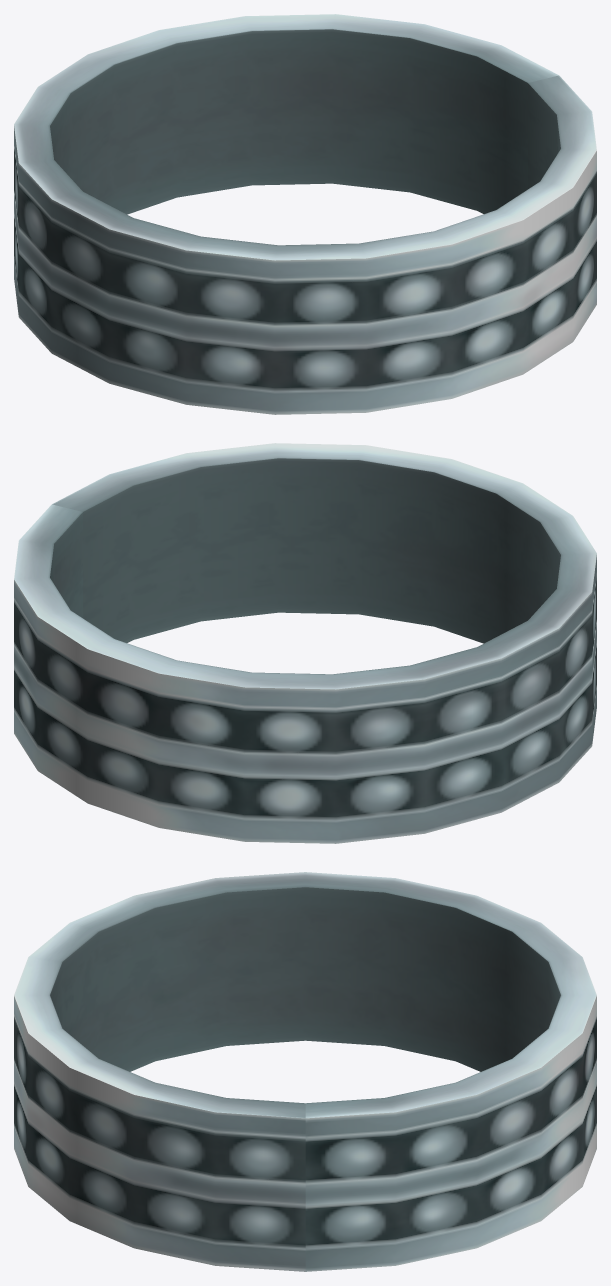
File: ring_silver_14.fbx
3 renders of one model, top to bottom at view 1: azimuth 30°, elevation 25°; view 2: azimuth 150°, elevation 25°; view 3: azimuth 270°, elevation 25°, orthographic.
Visible parts, largest first — view 1: ring_silver_14; view 2: ring_silver_14; view 3: ring_silver_14.
Boxes of the visible parts, bbox=[...] form: ring_silver_14: bbox=[14, 14, 596, 414]; ring_silver_14: bbox=[14, 443, 596, 843]; ring_silver_14: bbox=[14, 872, 596, 1271].
Bounding box in the file's own units: 2.04 × 0.594 × 2.04.
